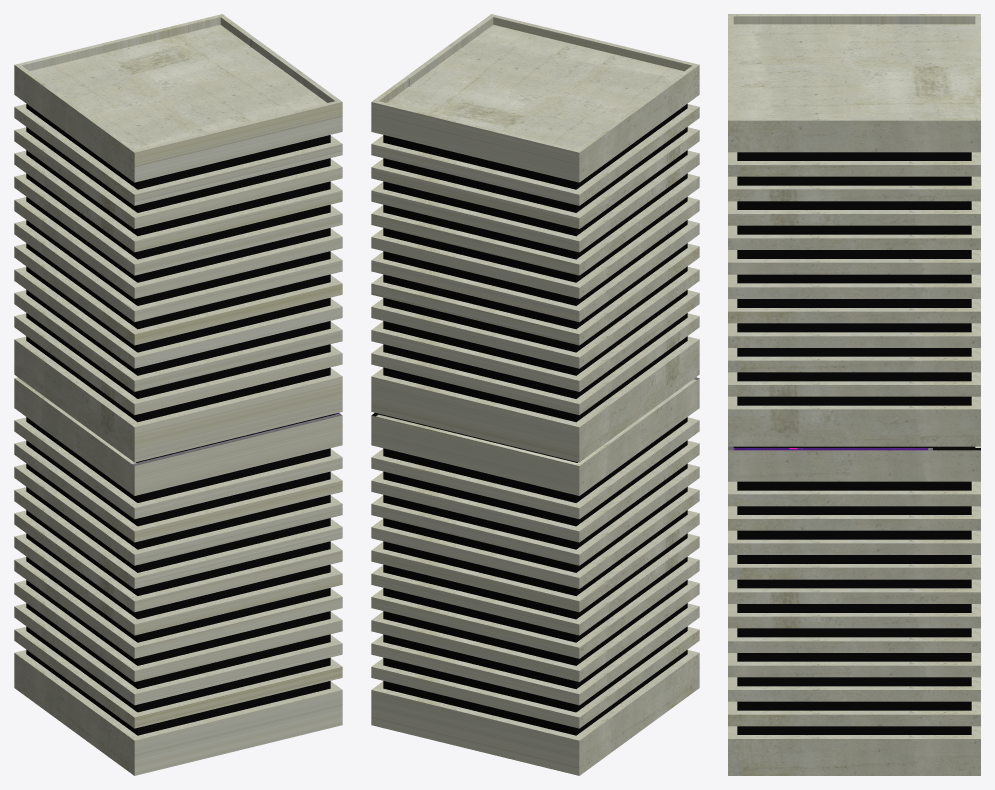
File: Building8.fbx
3 views of the same model, side by side, from view 1: azimuth 30°, elevation 25°; view 2: azimuth 150°, elevation 25°; view 3: azimuth 270°, elevation 25° (orthographic). The views are drawn at different scales.
Parts seen in each view (by area): view 1: Cube.030; view 2: Cube.030; view 3: Cube.030.
Boxes of the visible parts, x1,y1,x2,y2 form: Cube.030: (14,14,342,775); Cube.030: (371,14,699,775); Cube.030: (728,14,980,775).
Size of the model in its own units: 14.81 by 42.37 by 14.81.
